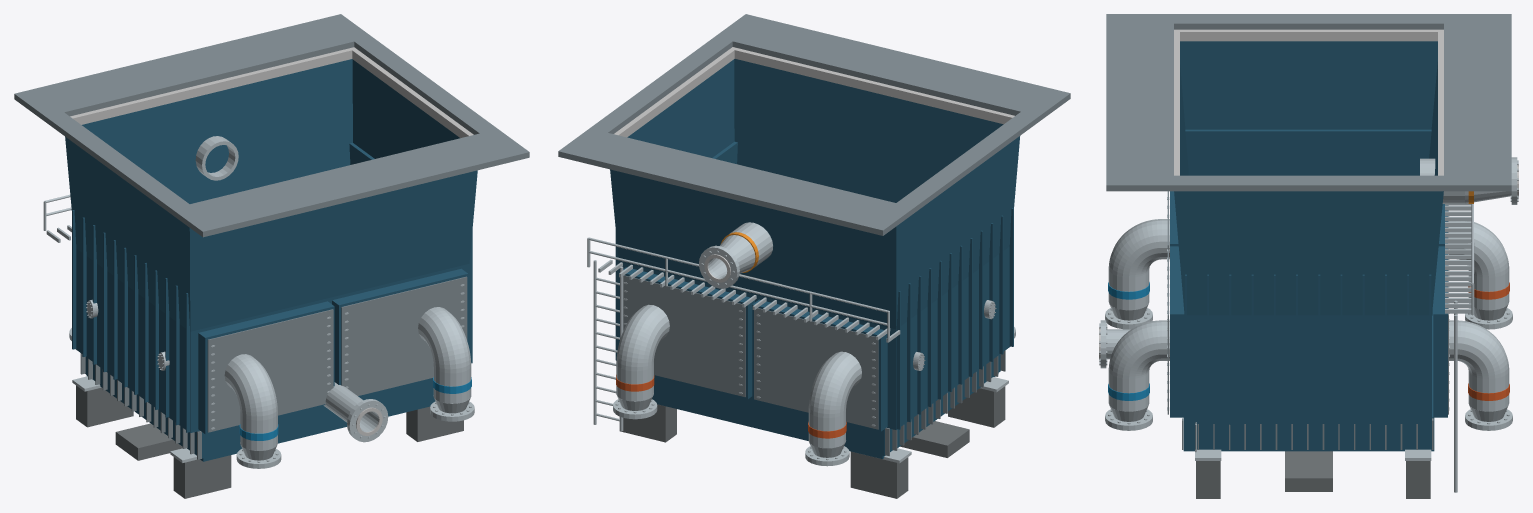
File: body.obj
3 renders of one model, left to right at view 1: azimuth 30°, elevation 25°; view 2: azimuth 150°, elevation 25°; view 3: azimuth 270°, elevation 25°, orthographic. The views are drawn at different scales.
Bounding box in the file's own units: 6.76 × 6 × 7.
